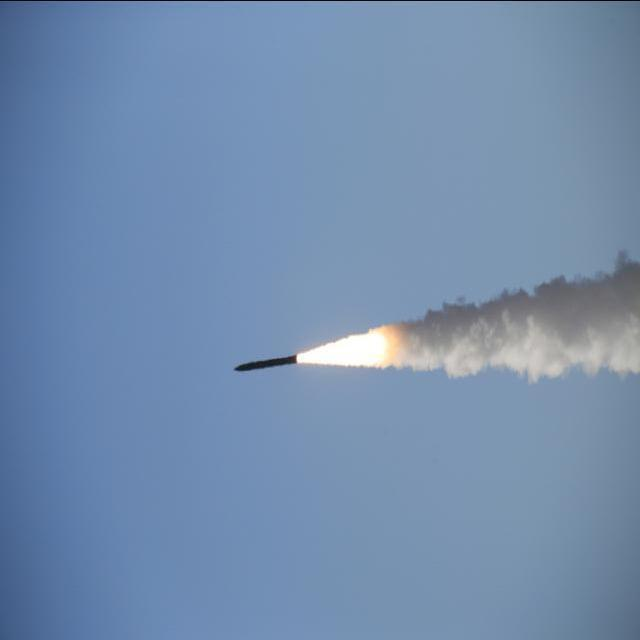missile: (232, 352, 298, 379)
